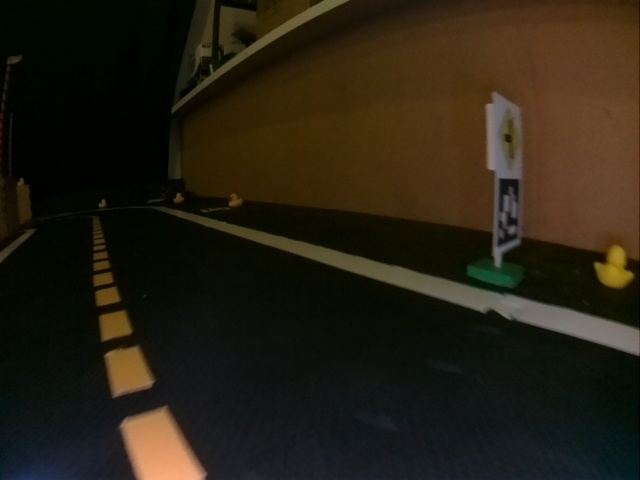Duckie: (594, 248, 628, 288), (228, 193, 243, 206), (172, 192, 184, 204), (99, 199, 107, 207)
Intersection sign: (495, 111, 522, 172)
QR code: (496, 178, 520, 250)
